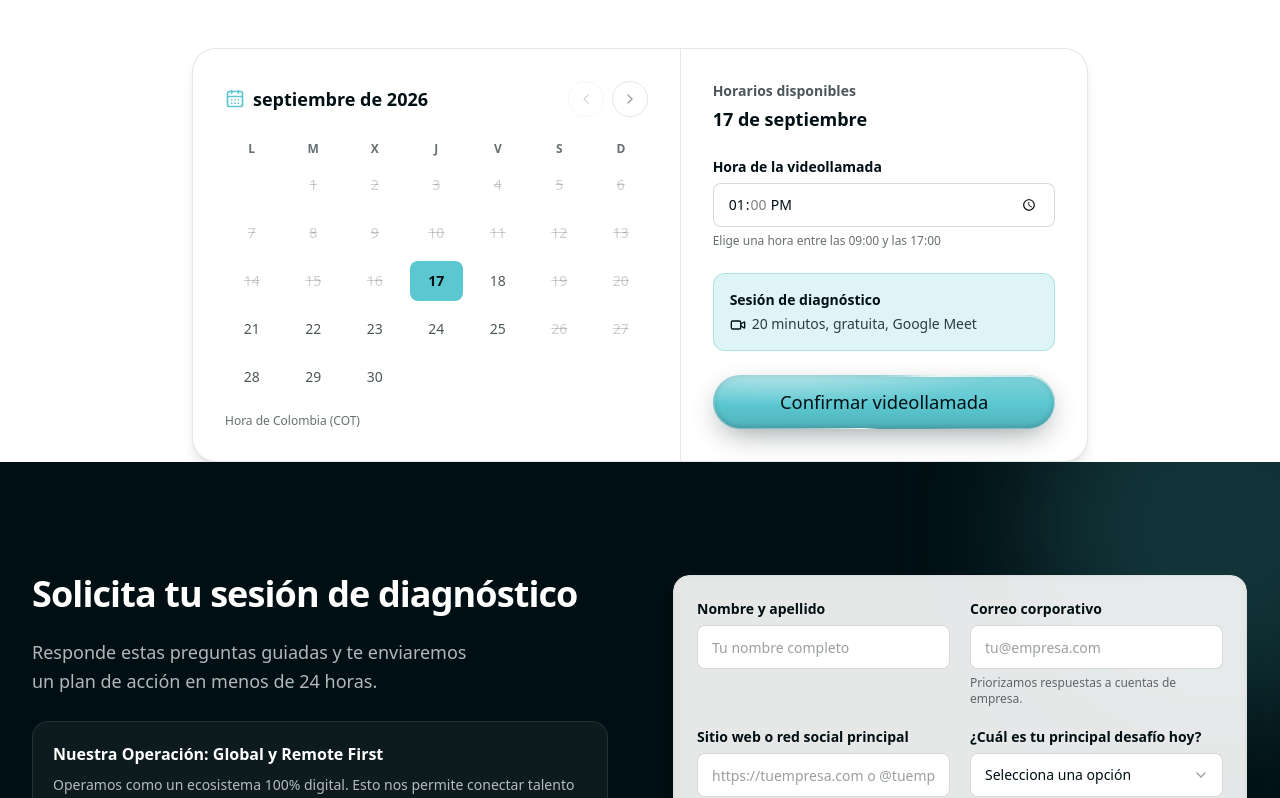
Test: booking flow › includes the confirmed slot in the submitted payload
Click the button "21": coordinates (252, 329) [225,309,278,349]
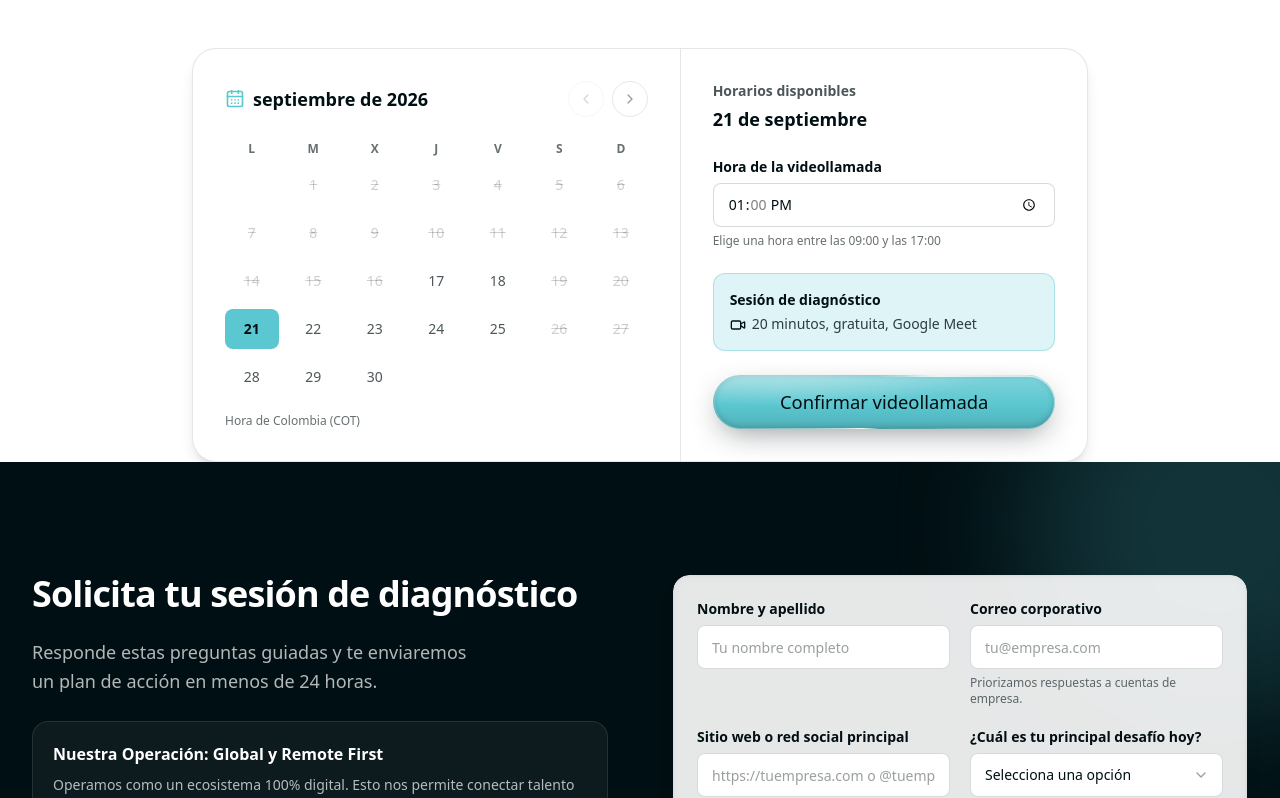
Replace the text in the time field labelled "Hora de la videollamada" with "11:00": coordinates (884, 205) [713,183,1055,227]
Click the button "Confirmar videollamada": coordinates (884, 402) [713,375,1055,429]
(page scrolled)
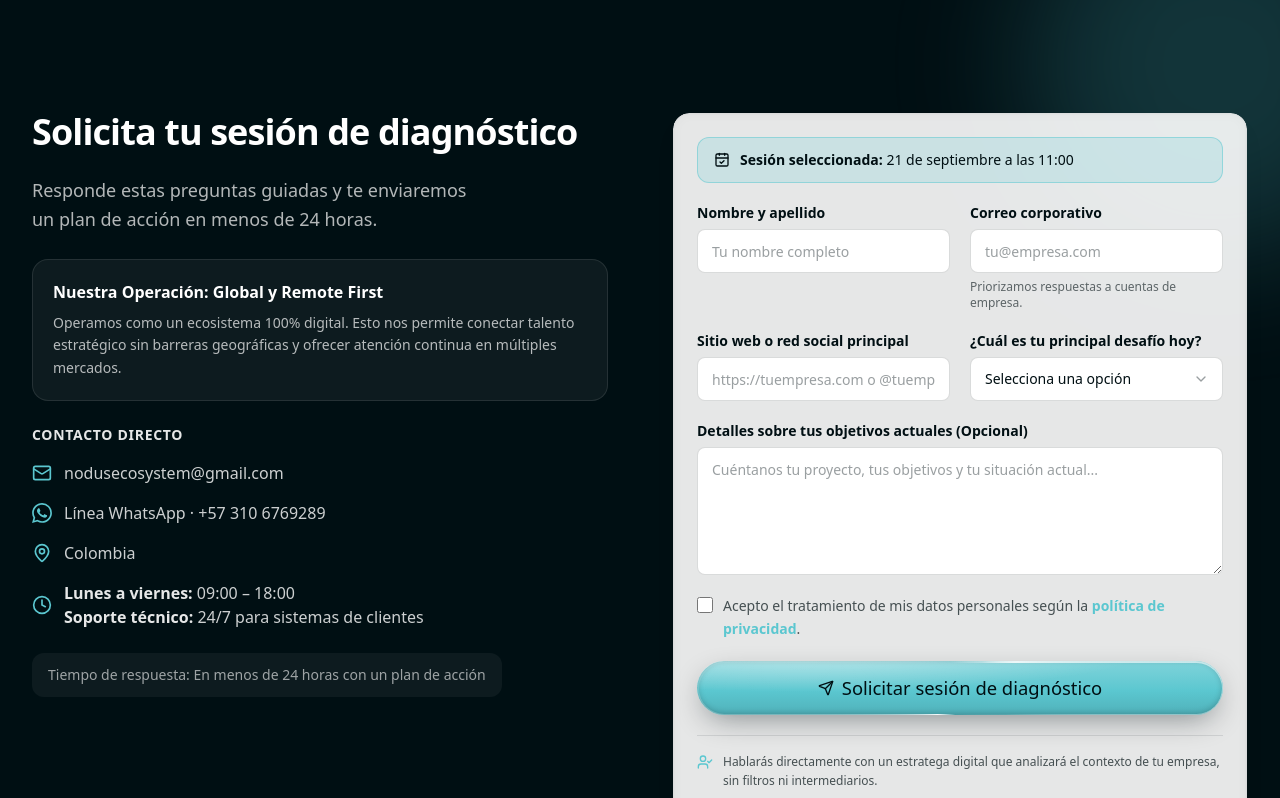
In the field labelled "Nombre y apellido": coordinates (824, 251) [697,229,950,273], type "Ana Pérez"
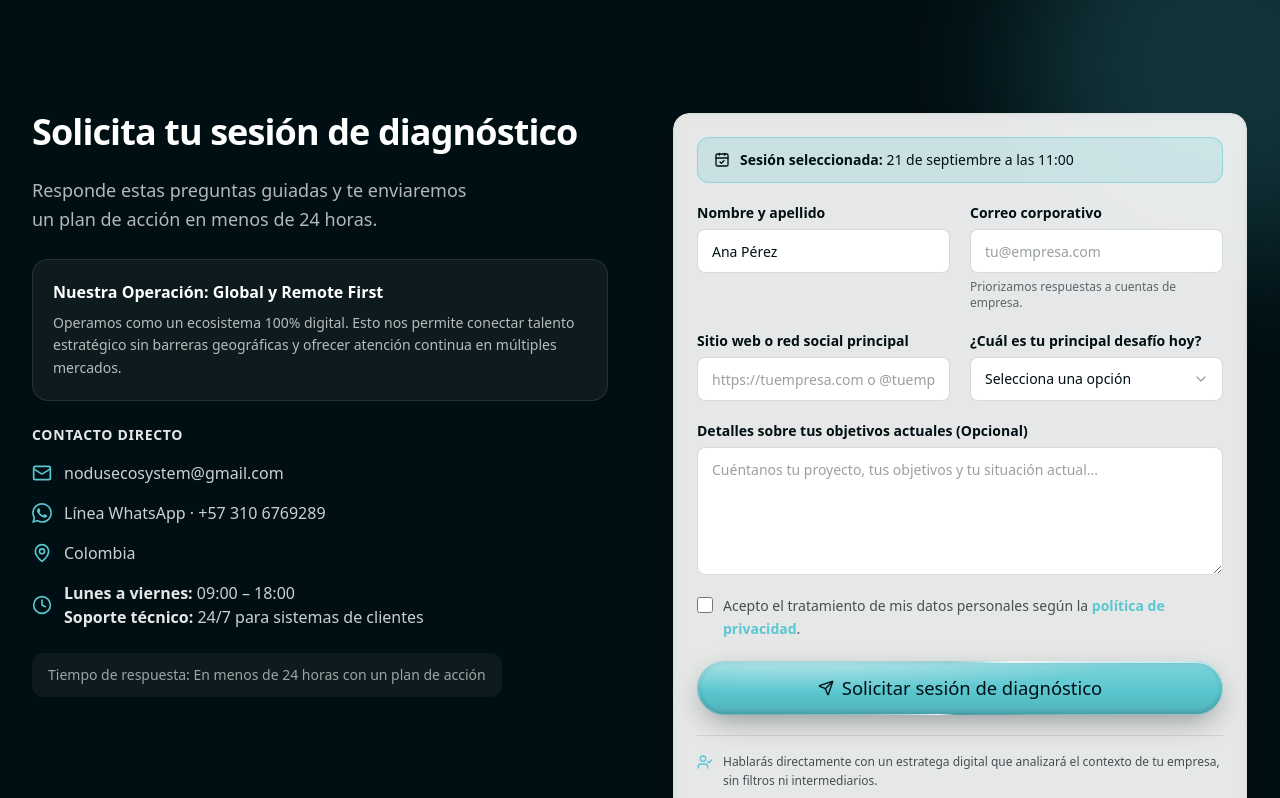
In the field labelled "Correo corporativo": coordinates (1096, 251) [970,229,1223,273], type "ana@example.com"
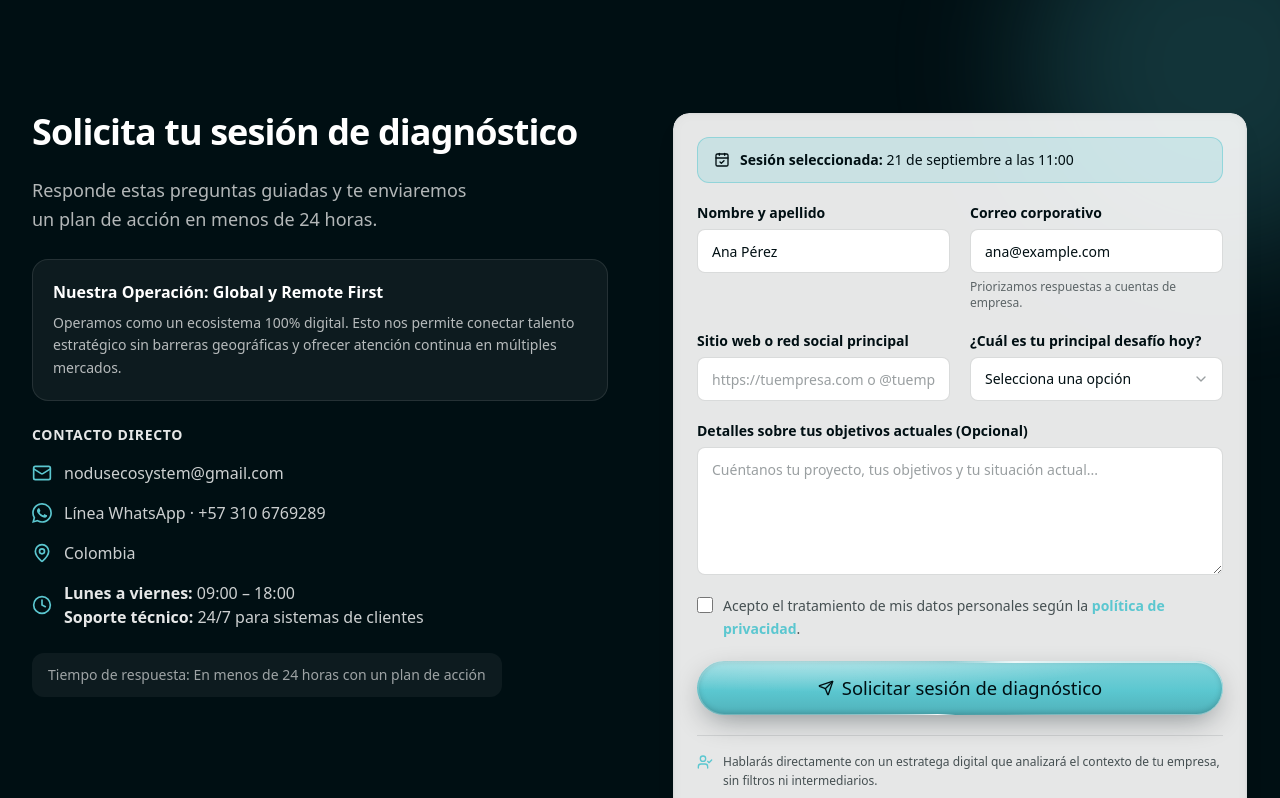
Click the checkbox: coordinates (705, 605) [697,597,713,613]
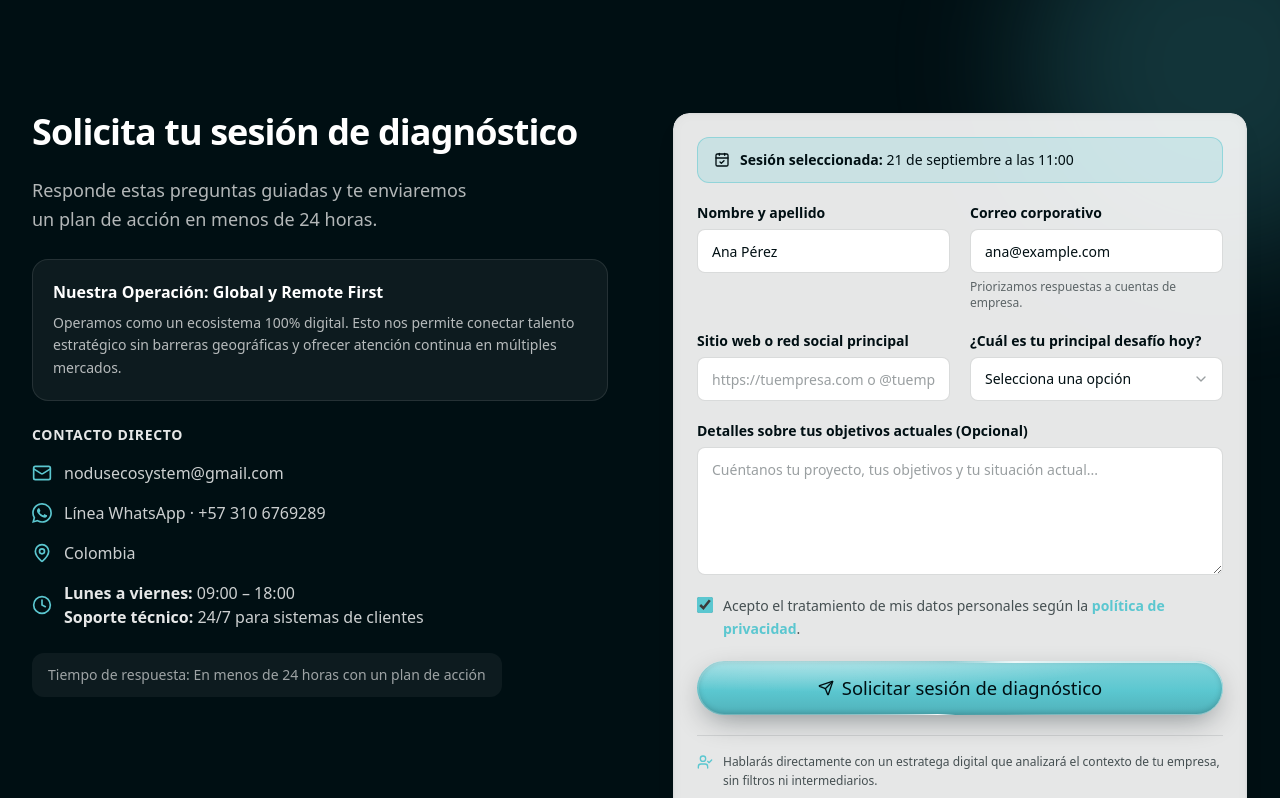
Click the button "Solicitar sesión de diagnóstico": coordinates (960, 688) [697,661,1223,715]
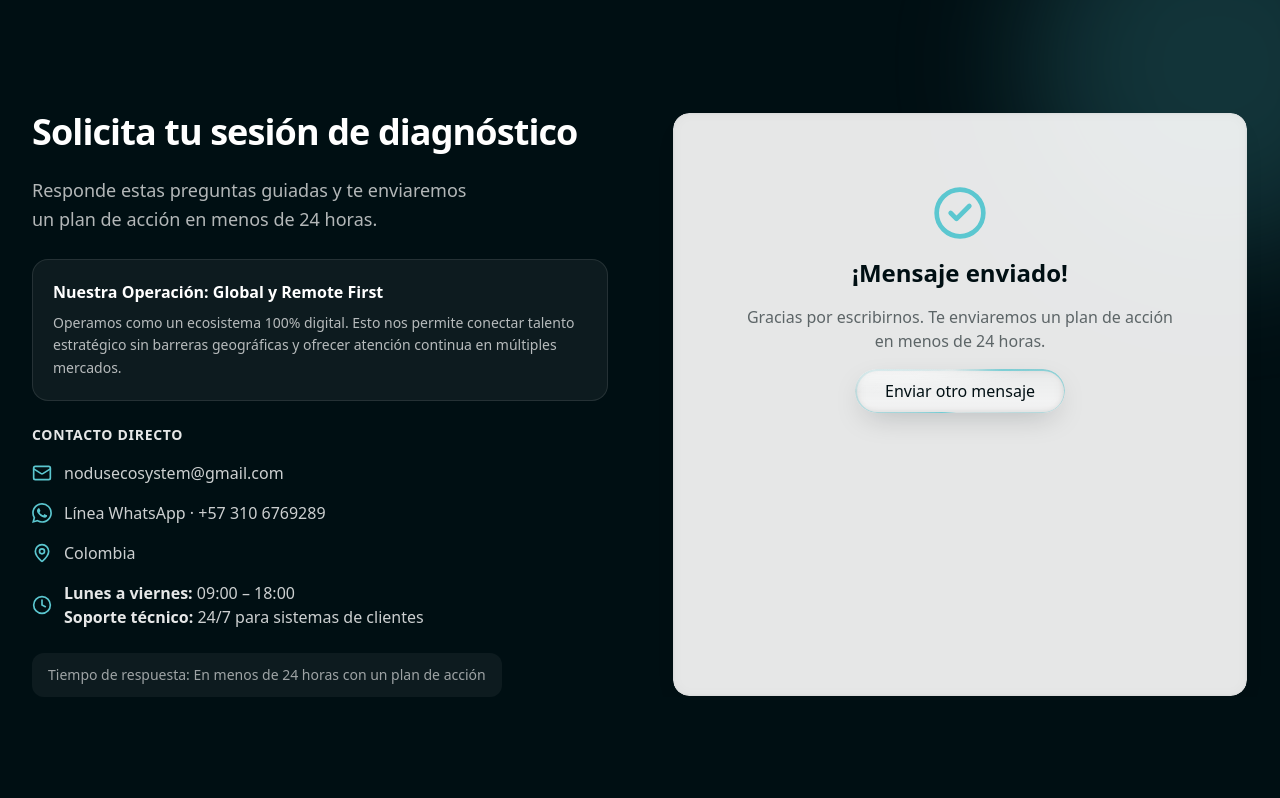
Check: the heading "¡Mensaje enviado!" is shown, box [852,257,1068,289]
